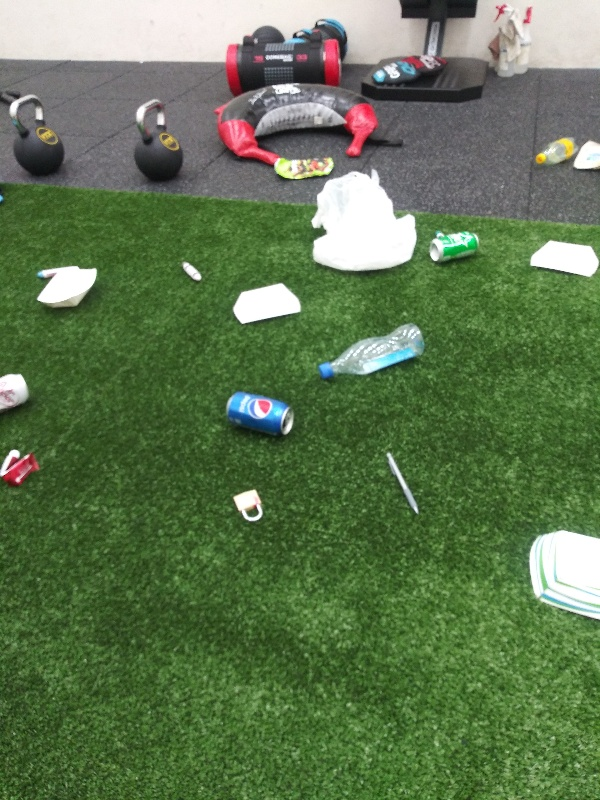bag: (272, 150, 338, 181), (570, 138, 600, 174)
bottle: (312, 317, 429, 384), (530, 128, 583, 168)
can: (220, 387, 297, 437), (424, 226, 488, 270), (1, 367, 34, 416)
plate: (520, 525, 600, 625), (34, 263, 105, 318), (228, 282, 306, 330), (522, 236, 600, 281)
